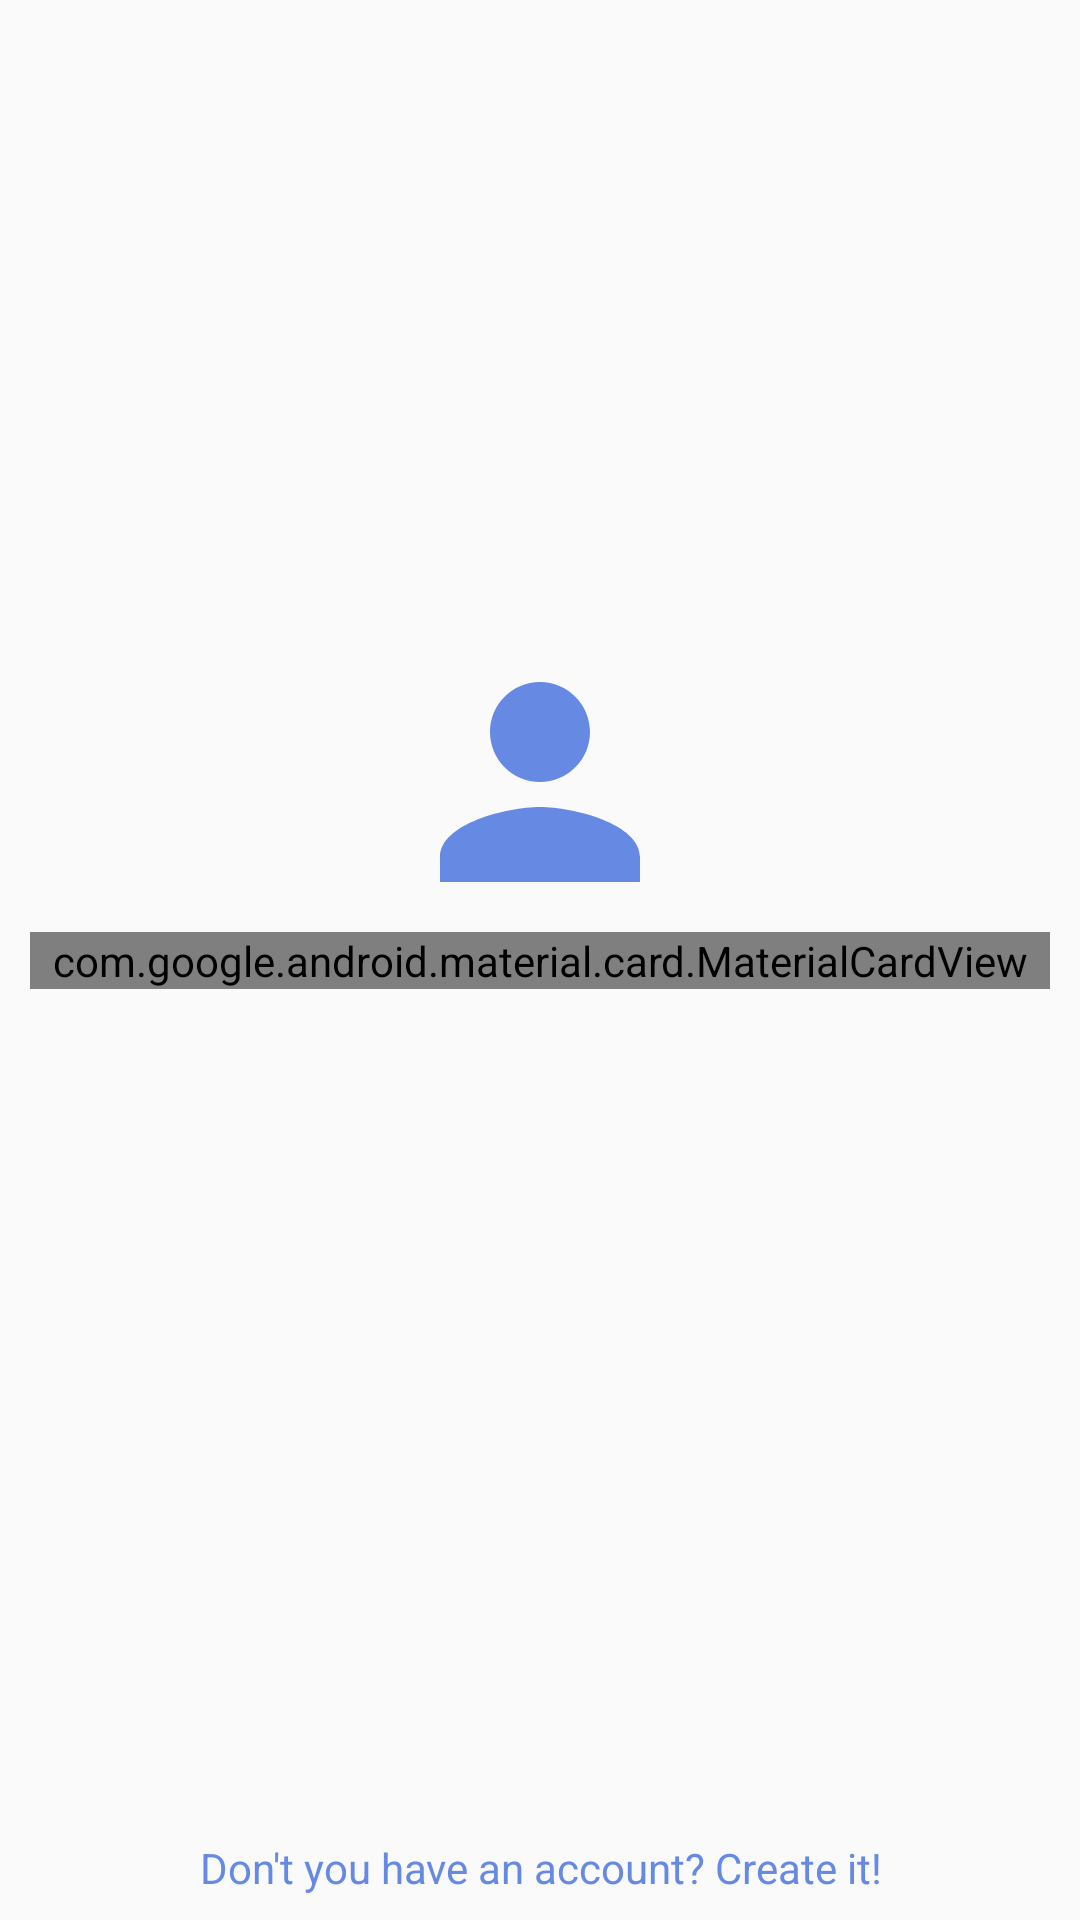

Icons on this 1080px x 1920px Android screen, each with the point to tap as [x,y]:
person: [540,782]
